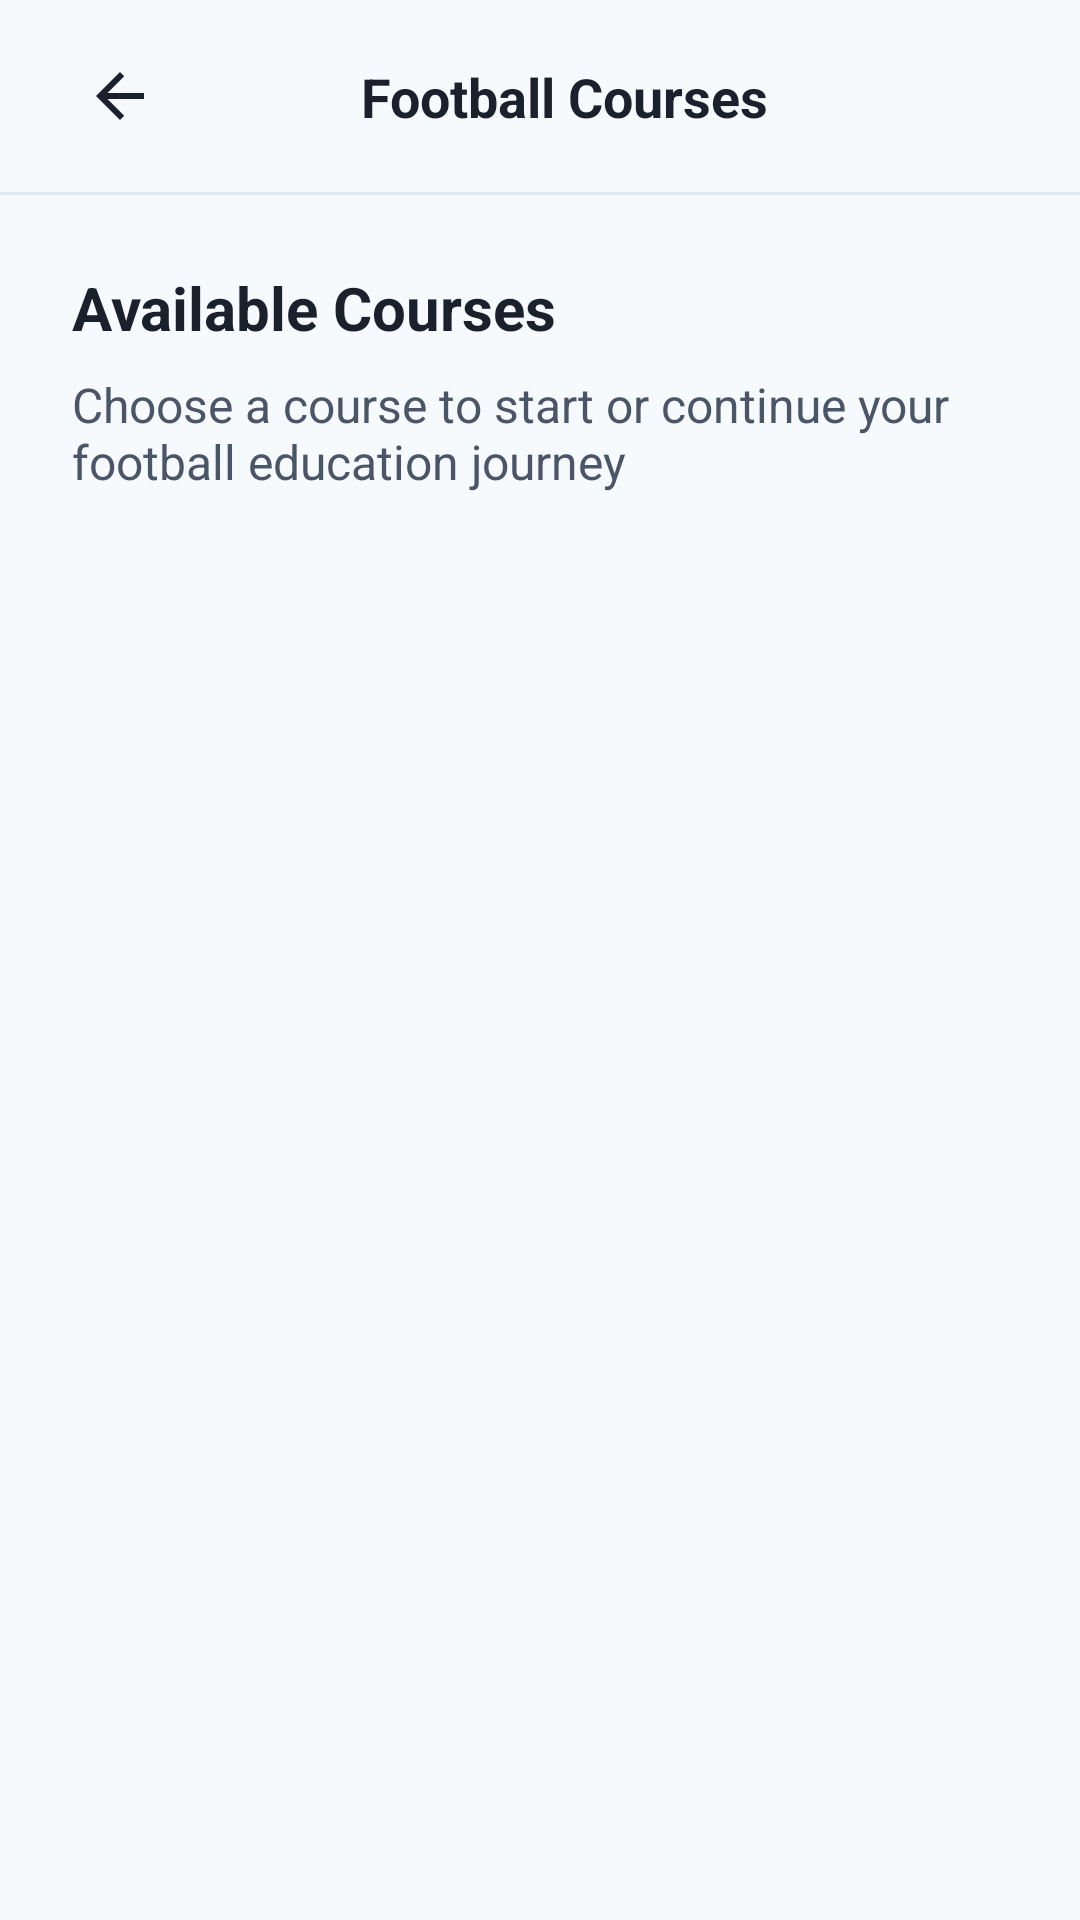

Icons on this 1080px×1920px Android screen, each with the point to tap as (x=x, y=y):
Back: (x=120, y=96)
